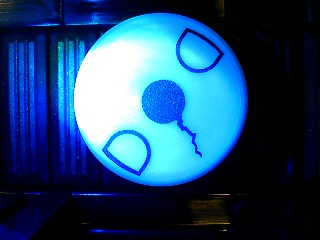CRACK: (72, 11, 248, 187)
